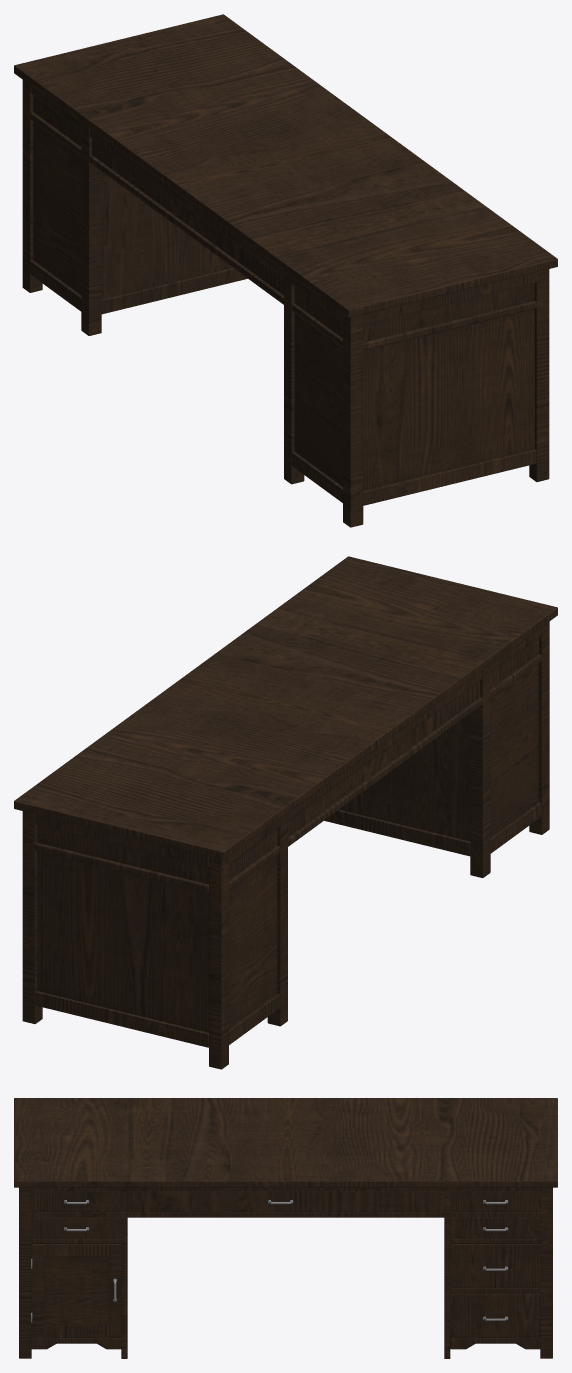
Rendered from Desk,Teacherlvl2.fbx.
The picture shows the model from 3 angles, top to bottom: view 1: azimuth 30°, elevation 25°; view 2: azimuth 150°, elevation 25°; view 3: azimuth 270°, elevation 25°; orthographic projection. The views are drawn at different scales.
Visible parts, largest first — view 1: Desk,Teacherlvl2; view 2: Desk,Teacherlvl2; view 3: Desk,Teacherlvl2.
Boxes of the visible parts, x1,y1,x2,y2 form: Desk,Teacherlvl2: (14,14,557,527); Desk,Teacherlvl2: (14,556,557,1069); Desk,Teacherlvl2: (14,1098,557,1358).
Bounding box in the file's own units: 92.29 × 93.02 × 255.
